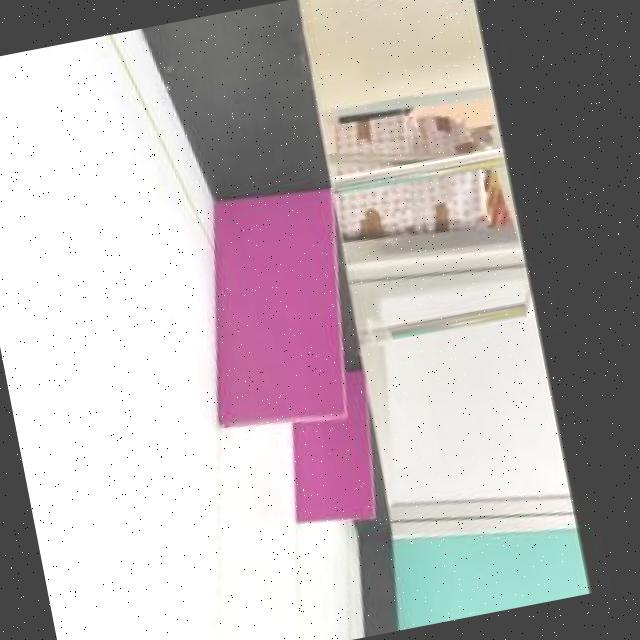xparking: (213, 187, 347, 425), (293, 427, 373, 523)
